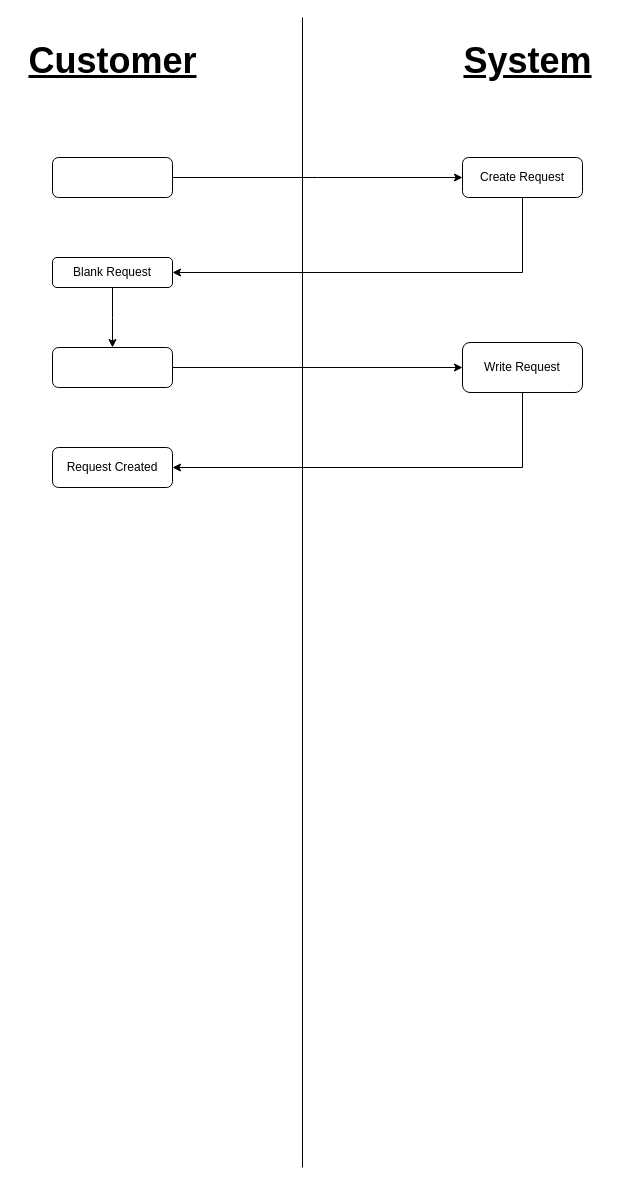
This 619x1186 diagram has some shape labels left out. The centre of each missing label's shape, as x and y in pixels:
Enter Request Details: point (112, 367)
New Request: point (112, 177)
